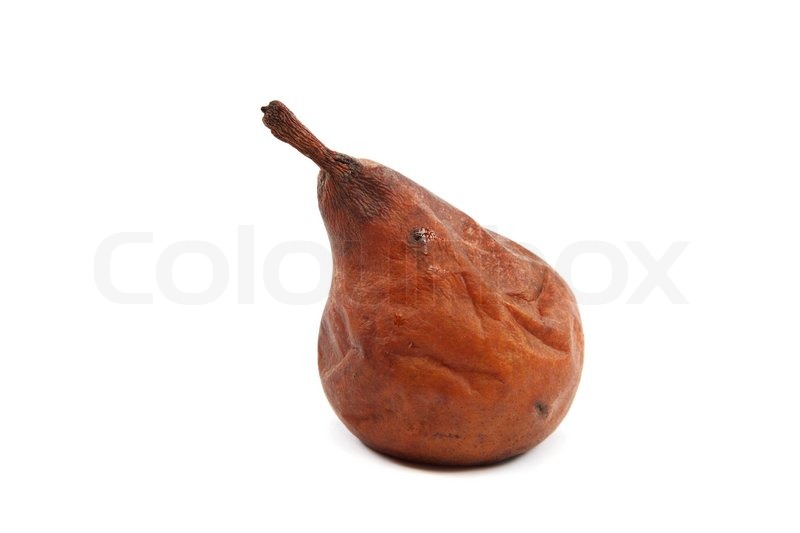damaged_pear: (275, 135, 587, 473)
